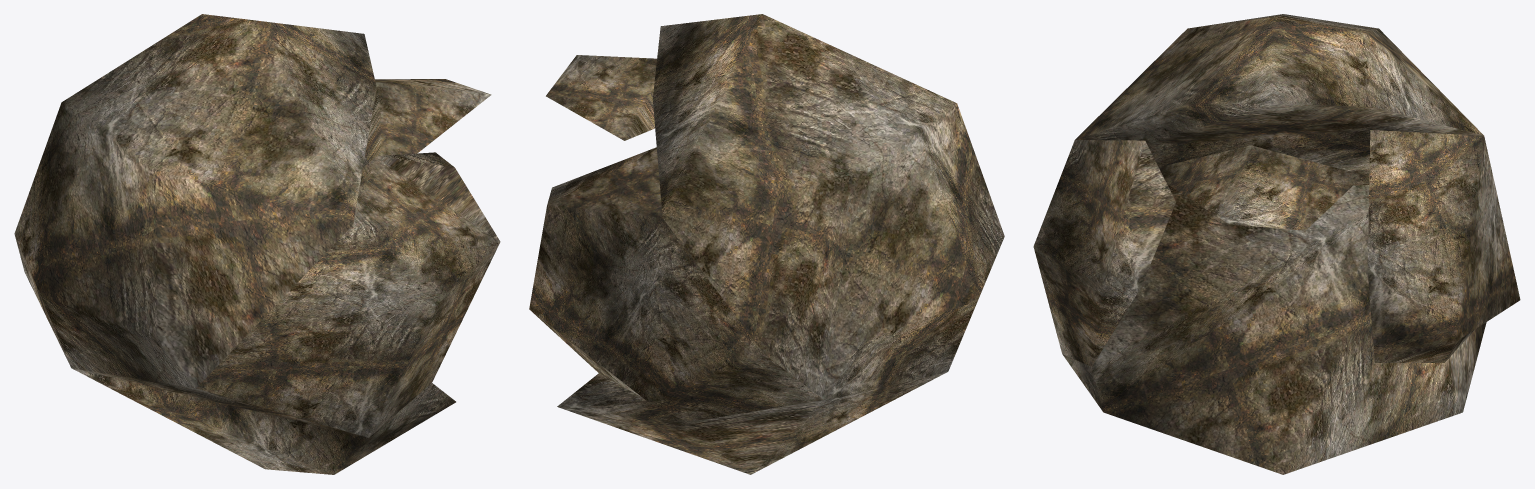
File: poi_all_lair_rock_shelter_small_l3.fbx
3 views of the same model, side by side, from view 1: azimuth 30°, elevation 25°; view 2: azimuth 150°, elevation 25°; view 3: azimuth 270°, elevation 25° (orthographic).
Parts seen in each view (by area): view 1: mesh_node; view 2: mesh_node; view 3: mesh_node.
Boxes of the visible parts, box(x1,y1,x2,y2) form: mesh_node: box(14, 14, 500, 474); mesh_node: box(529, 14, 1004, 474); mesh_node: box(1033, 14, 1520, 474).
Size of the model in its own units: 1.94 by 1.98 by 1.94.
